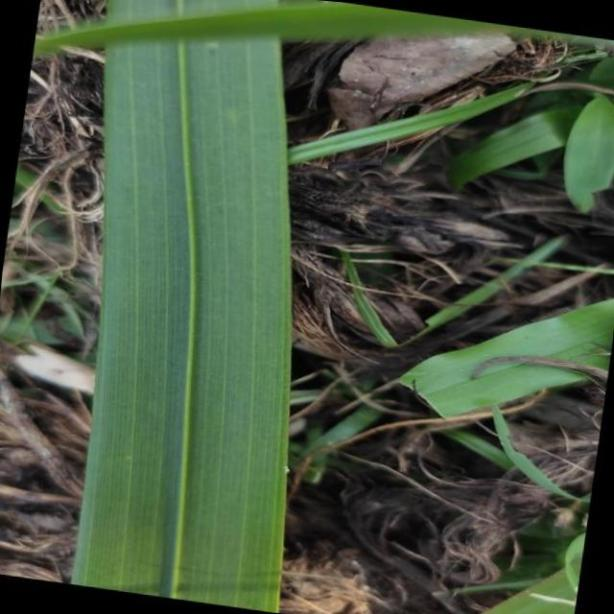Healthy: (70, 0, 293, 614)
